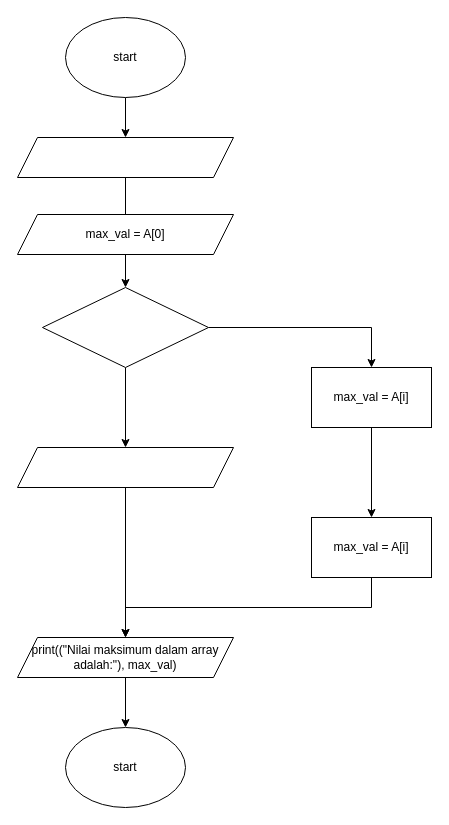
Image size: 449x825. Some labels were removed from this diagram. The shapes that lost their labels are listed below. From the top down, each one's box as (x1, y1, x2, y2) in pixels, then its label:
(16, 136, 234, 178): A = [4, 12, 7, 15, 9]
(42, 286, 208, 368): i < len(A)
(16, 446, 234, 488): n = int(input("Masukkan angka: "))
